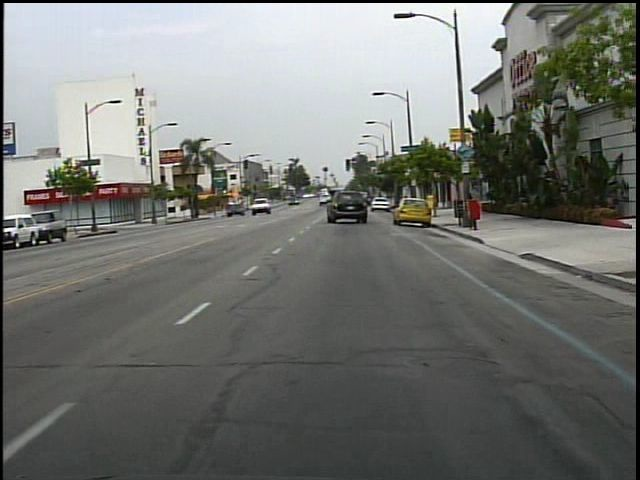person: (461, 184, 482, 217)
